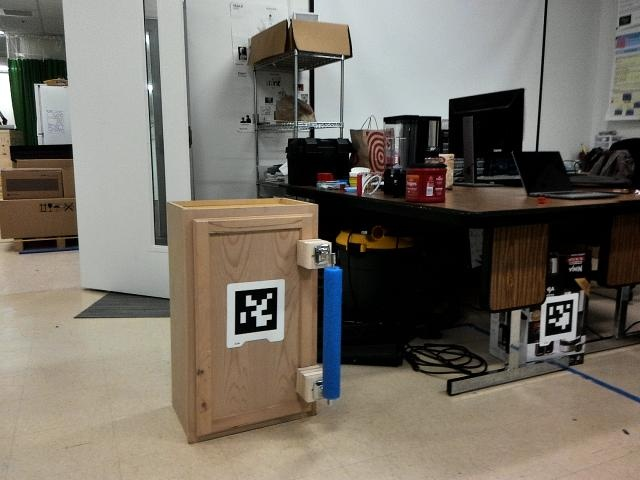noodle_handle: (318, 254, 346, 401)
